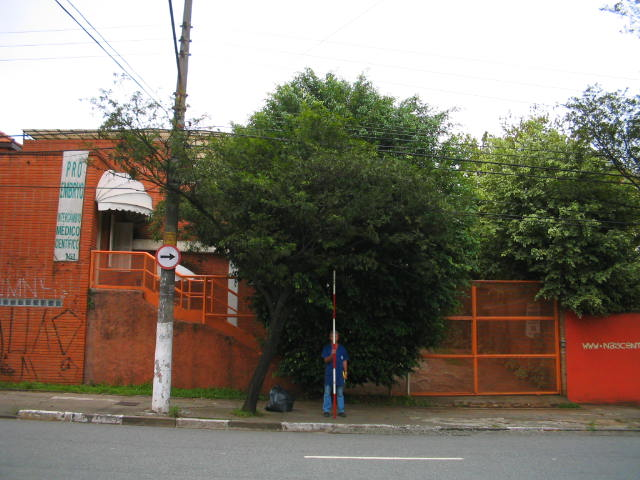crown: (88, 70, 478, 318)
stem: (234, 320, 284, 414)
stick: (328, 267, 341, 418)
tree: (87, 68, 485, 416)
